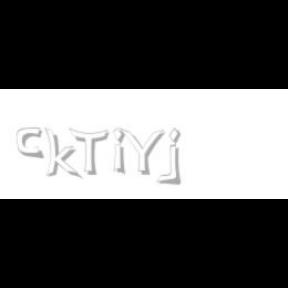T: (69, 128, 109, 176)
Y: (119, 128, 165, 176)
c: (16, 128, 46, 160)
i: (113, 128, 129, 176)
j: (166, 128, 196, 186)
k: (44, 128, 82, 180)
